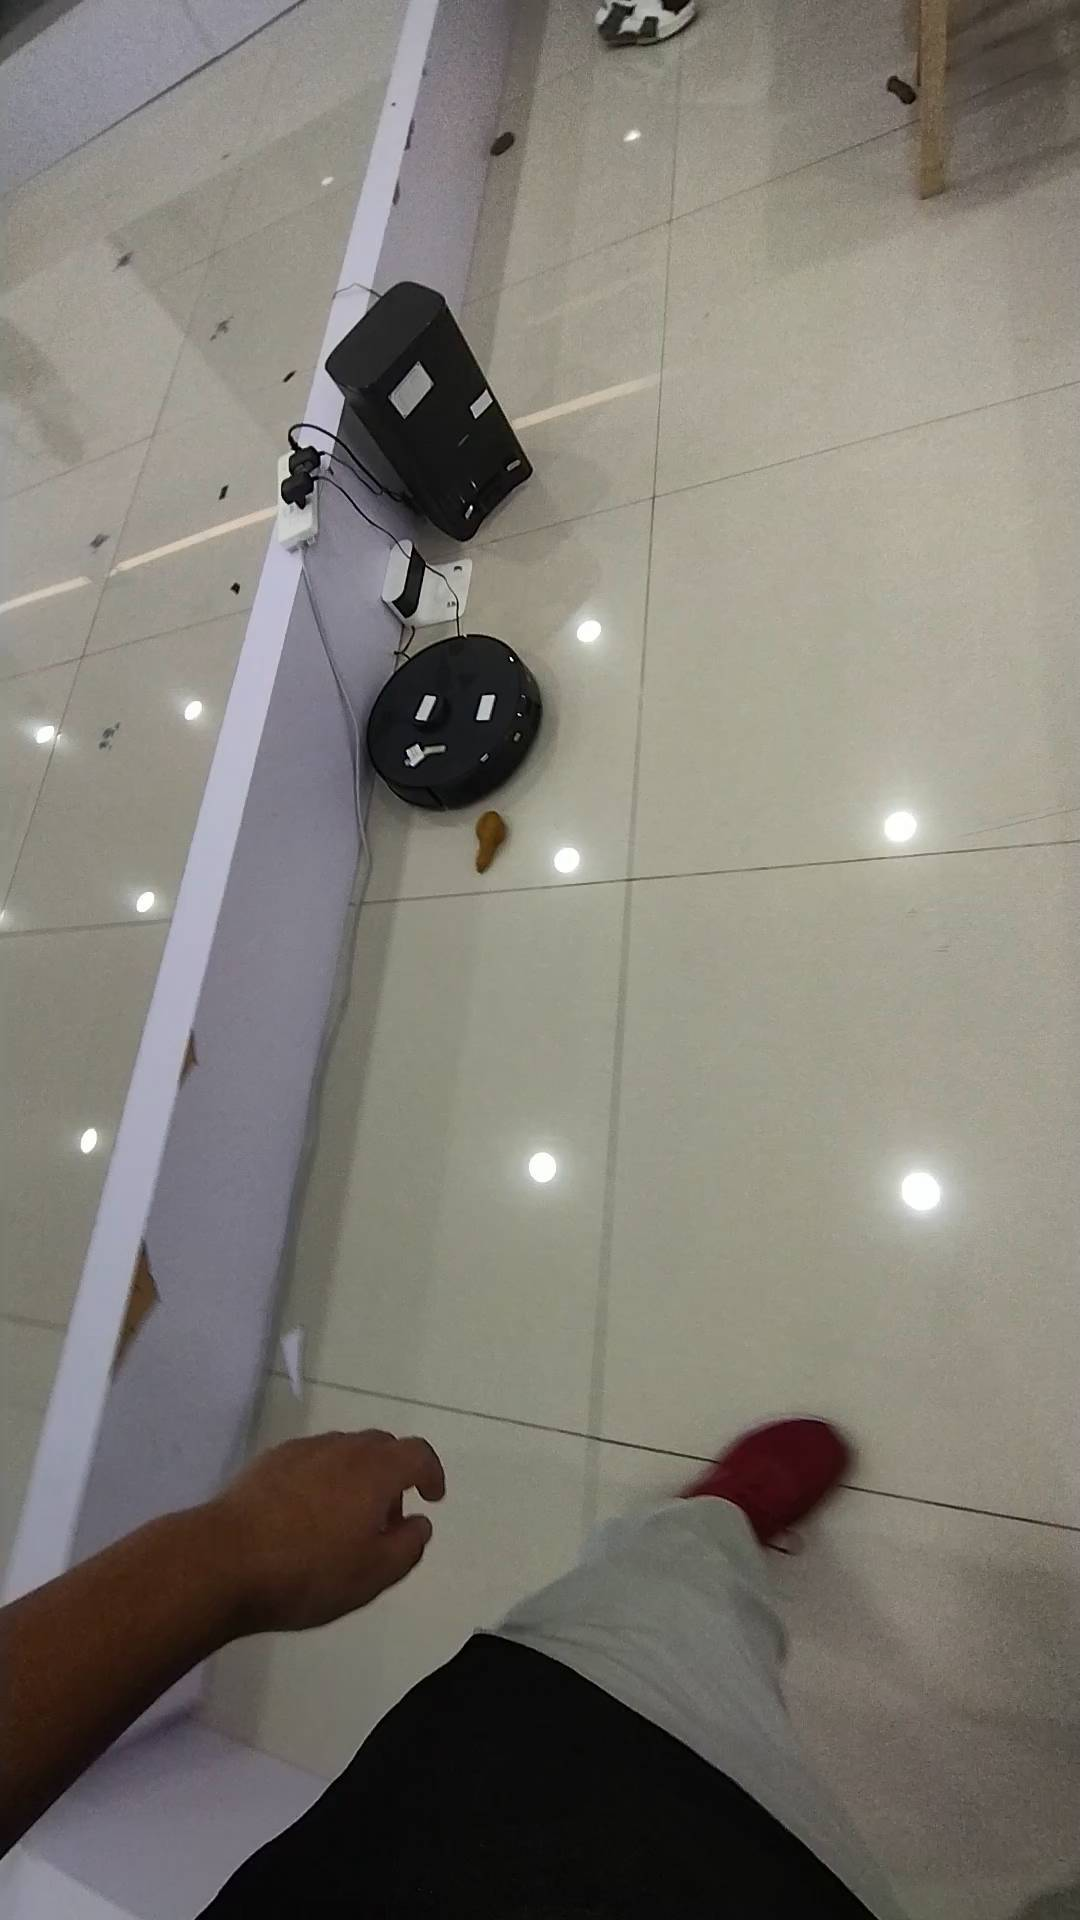dust collecting barrel: (323, 285, 530, 542)
recharge seat: (376, 541, 476, 622)
